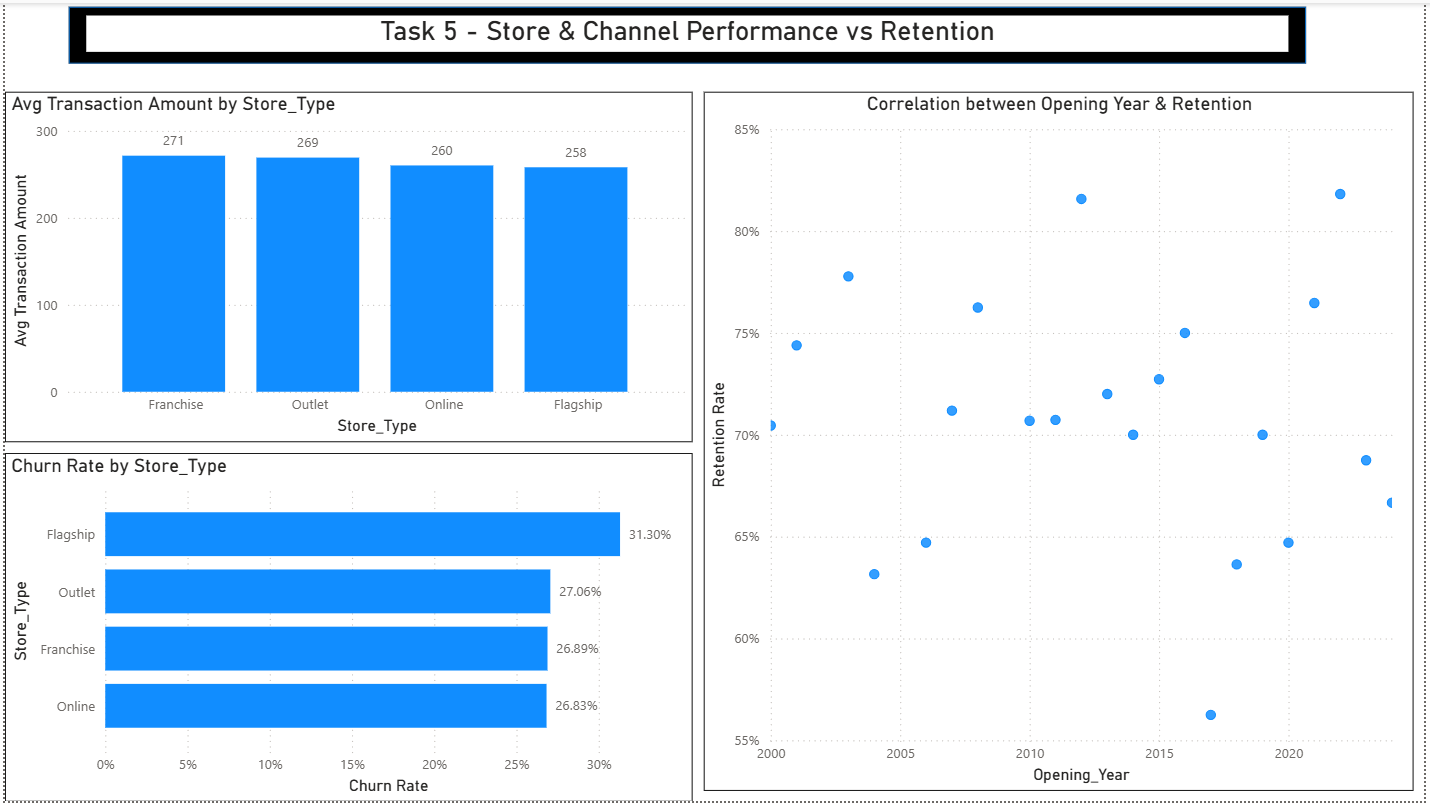

The page's visual inventory and layout, read from the dashboard file:
{"tool":"powerbi","page":{"name":"Task 5","canvas":[1280,720],"ordinal":3},"visuals":[{"type":"clusteredColumnChart","fields":{"Category":["Adidas store locations - Store_Locations.Store_Type"],"Y":["Adidas customer transactional - Customer_Transactions.Avg Transaction Amount"]},"box":[0,80,620,315.7],"z":0},{"type":"clusteredBarChart","fields":{"Category":["Adidas store locations - Store_Locations.Store_Type"],"Y":["customer churned - Churn_Labelled_Customers.Churn Rate"]},"box":[0,405.7,620,314.3],"z":1000},{"type":"scatterChart","title":"Correlation between Opening Year & Retention","fields":{"X":["Adidas store locations - Store_Locations.Opening_Year"],"Y":["customer churned - Churn_Labelled_Customers.Retention Rate"]},"box":[630,80,640,630],"z":2000},{"type":"shape","box":[57.1,2.9,1115.7,51.4],"z":2001},{"type":"textbox","title":"Task 5 - Store & Channel Performance vs Retention","box":[72.9,11.4,1084.3,32.9],"z":2002}]}

Visuals, with their boxes in screenshot pixels (x1, y1, x2, y2), scaled from the page's 1280x720 canvas onto the 1430x806 screenshot:
clusteredColumnChart - Adidas store locations - Store_Locations.Store_Type x Adidas customer transactional - Customer_Transactions.Avg Transaction Amount: l=0, t=90, r=693, b=443
clusteredBarChart - Adidas store locations - Store_Locations.Store_Type x customer churned - Churn_Labelled_Customers.Churn Rate: l=0, t=454, r=693, b=805
"Correlation between Opening Year & Retention" scatterChart: l=704, t=90, r=1419, b=795
shape: l=64, t=3, r=1310, b=61
"Task 5 - Store & Channel Performance vs Retention" textbox: l=81, t=13, r=1293, b=50
